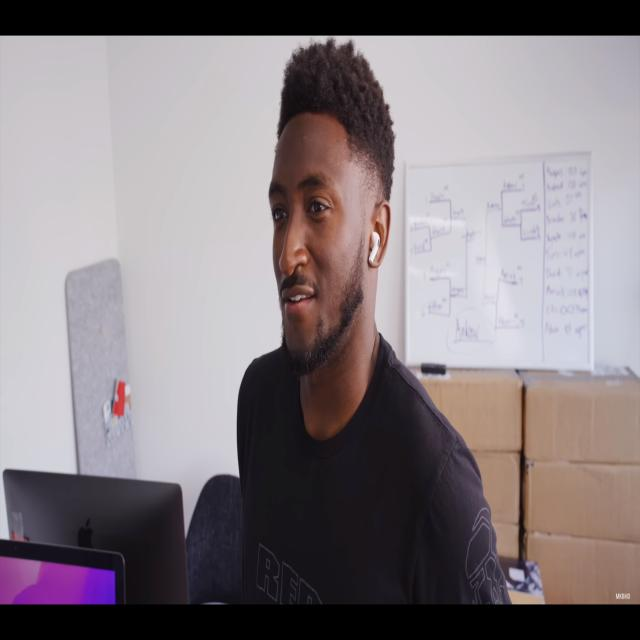airpods: (368, 229, 381, 265)
